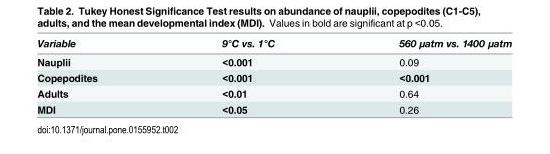table: (36, 36, 511, 114)
table column: (159, 36, 336, 114), (336, 36, 511, 114), (36, 36, 159, 114)
table column header: (36, 36, 511, 52)
table row: (36, 52, 511, 69), (36, 36, 511, 52), (36, 69, 511, 85), (36, 85, 511, 101), (36, 101, 511, 114)
